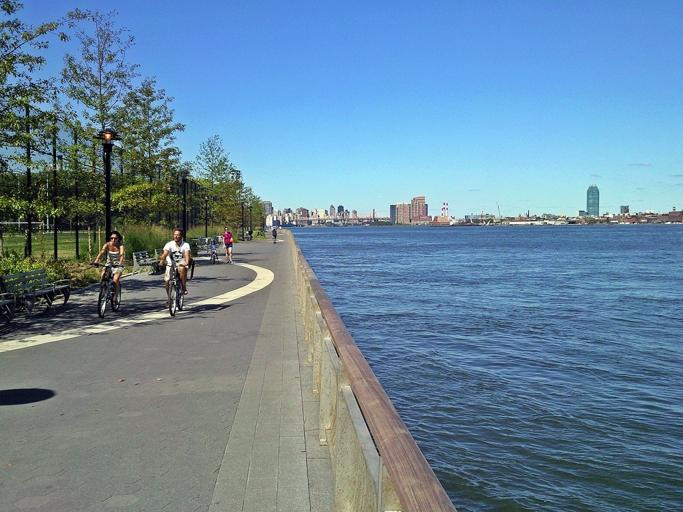non-vehicle: (89, 262, 123, 318), (160, 263, 190, 316), (208, 246, 218, 264)
